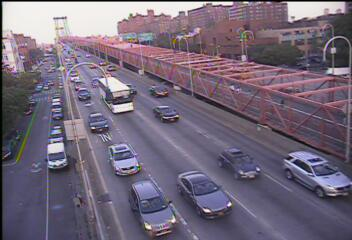neg: (227, 44, 238, 59), (322, 5, 332, 19), (334, 3, 344, 16)
